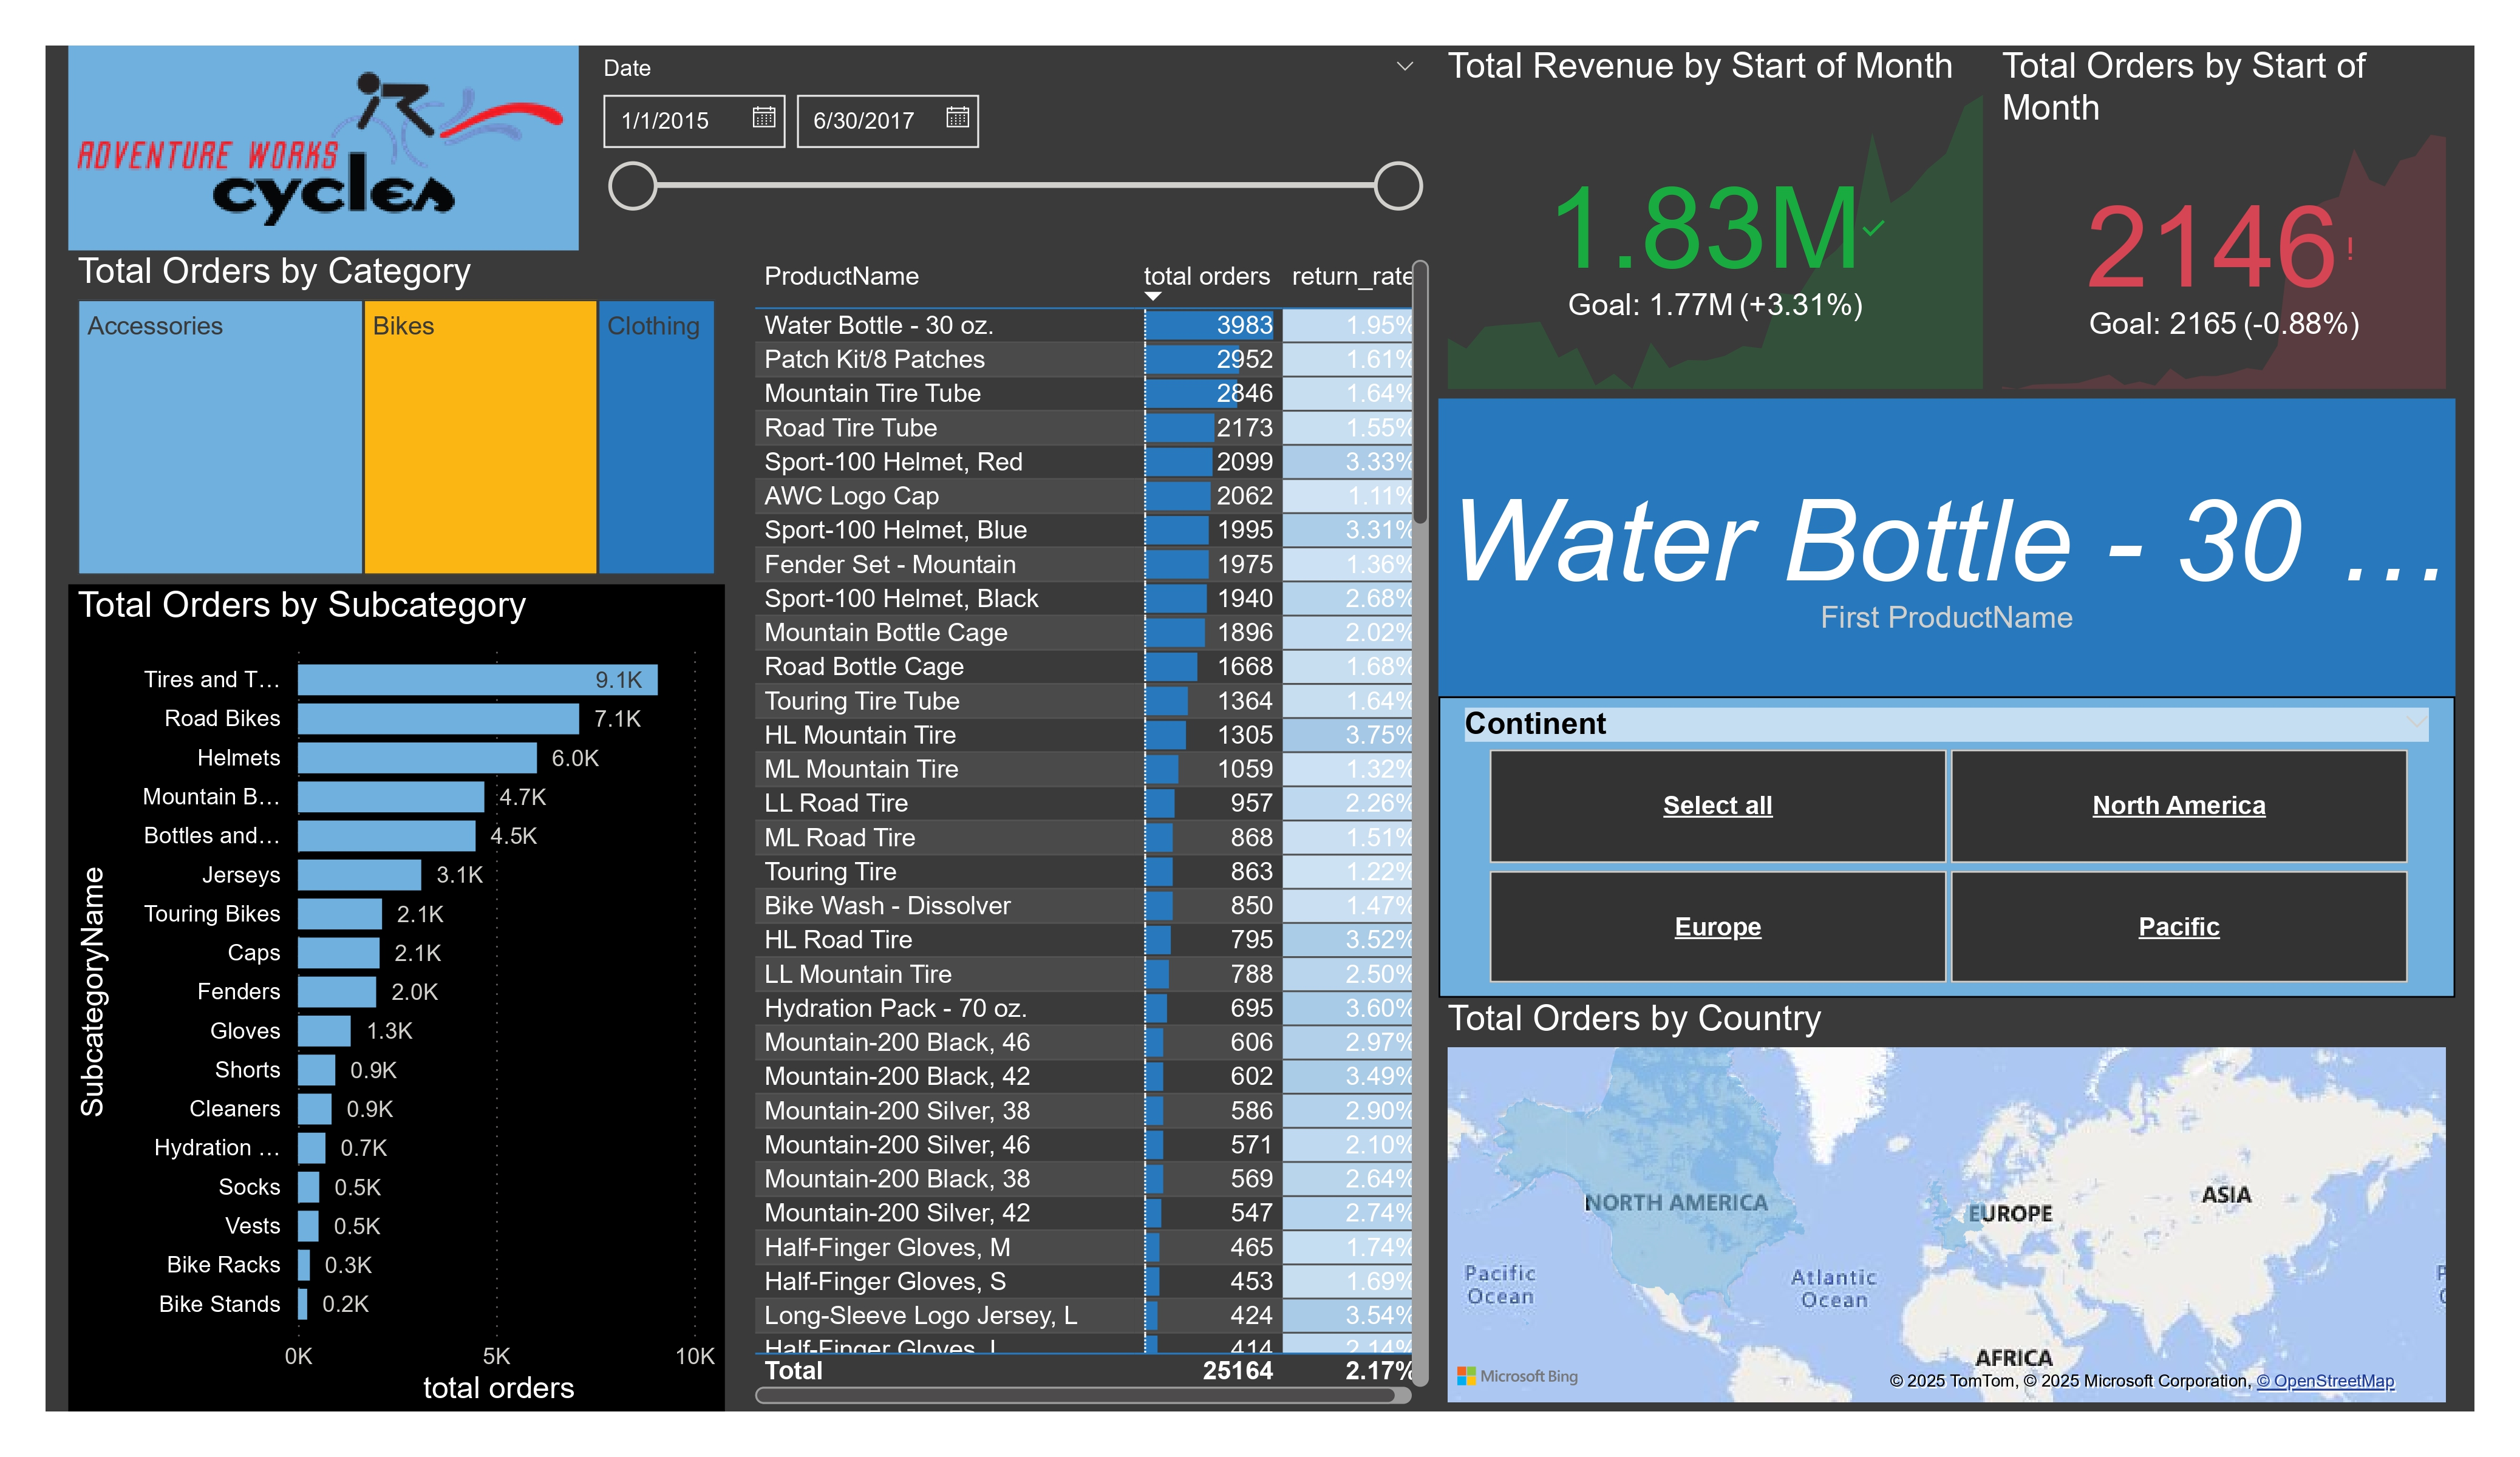

This screenshot's page, from the dashboard's own definition file:
{"tool":"powerbi","page":{"name":"Summery page","canvas":[1280,720],"ordinal":0},"visuals":[{"type":"treemap","title":"Total Orders by Category","fields":{"Group":["AW_Categories_lookup.CategoryName","AW_Subcategories_lookup.SubcategoryName","AW_Products_lookup.ProductName"],"Values":["AW_Sales_lookup.total orders"]},"box":[11.8,107.5,346,176.4],"z":0},{"type":"barChart","title":"Total Orders by Subcategory","fields":{"Category":["AW_Subcategories_lookup.SubcategoryName"],"Y":["AW_Sales_lookup.total orders"]},"box":[11.8,283.9,346,436.7],"z":1000},{"type":"tableEx","fields":{"Values":["AW_Products_lookup.ProductName","AW_Sales_lookup.total orders","AW_Returns_lookup.return_rate"]},"box":[367.9,107.5,366.2,613.1],"z":2000},{"type":"card","fields":{"Values":["AW_Products_lookup.ProductName"]},"box":[734.1,186.5,535.9,156.2],"z":3000},{"type":"kpi","title":"Total Revenue by Start of Month","fields":{"TrendLine":["AW_Calendar_lookup.Start of Month"],"Goal":["AW_Sales_lookup.prev month revenue"],"Indicator":["AW_Sales_lookup.total revenue"]},"box":[734.1,0,292.3,186.5],"z":4000},{"type":"kpi","title":"Total Orders by Start of Month","fields":{"Indicator":["AW_Sales_lookup.total orders"],"TrendLine":["AW_Calendar_lookup.Start of Month"],"Goal":["AW_Sales_lookup.prev month order"]},"box":[1026,0,244,186],"z":5000},{"type":"slicer","fields":{"Values":["AW_Calendar_lookup.Date"]},"box":[280.5,0,453.5,107.5],"z":6000},{"type":"filledMap","title":"Total Orders by Country","fields":{"Category":["AW_Territories_lookup.Country"]},"box":[734.1,502.3,535.9,218.4],"z":7000},{"type":"slicer","fields":{"Values":["AW_Territories_lookup.Continent"]},"box":[734.1,342.7,535.9,159.6],"z":8000},{"type":"image","box":[11.8,0,268.8,107.5],"z":9000}]}

Visuals, with their boxes on the page's 1280x720 design canvas (x1, y1, x2, y2). These are canvas units, not pixel positions in the 2520x1457 screenshot, which may show the page scaled, cropped or inside an application window:
"Total Orders by Category" treemap: 12:108:358:284
"Total Orders by Subcategory" barChart: 12:284:358:721
tableEx - AW_Products_lookup.ProductName x AW_Sales_lookup.total orders: 368:108:734:721
card - AW_Products_lookup.ProductName: 734:186:1270:343
"Total Revenue by Start of Month" kpi: 734:0:1026:186
"Total Orders by Start of Month" kpi: 1026:0:1270:186
slicer - AW_Calendar_lookup.Date: 280:0:734:108
"Total Orders by Country" filledMap: 734:502:1270:721
slicer - AW_Territories_lookup.Continent: 734:343:1270:502
image: 12:0:281:108
